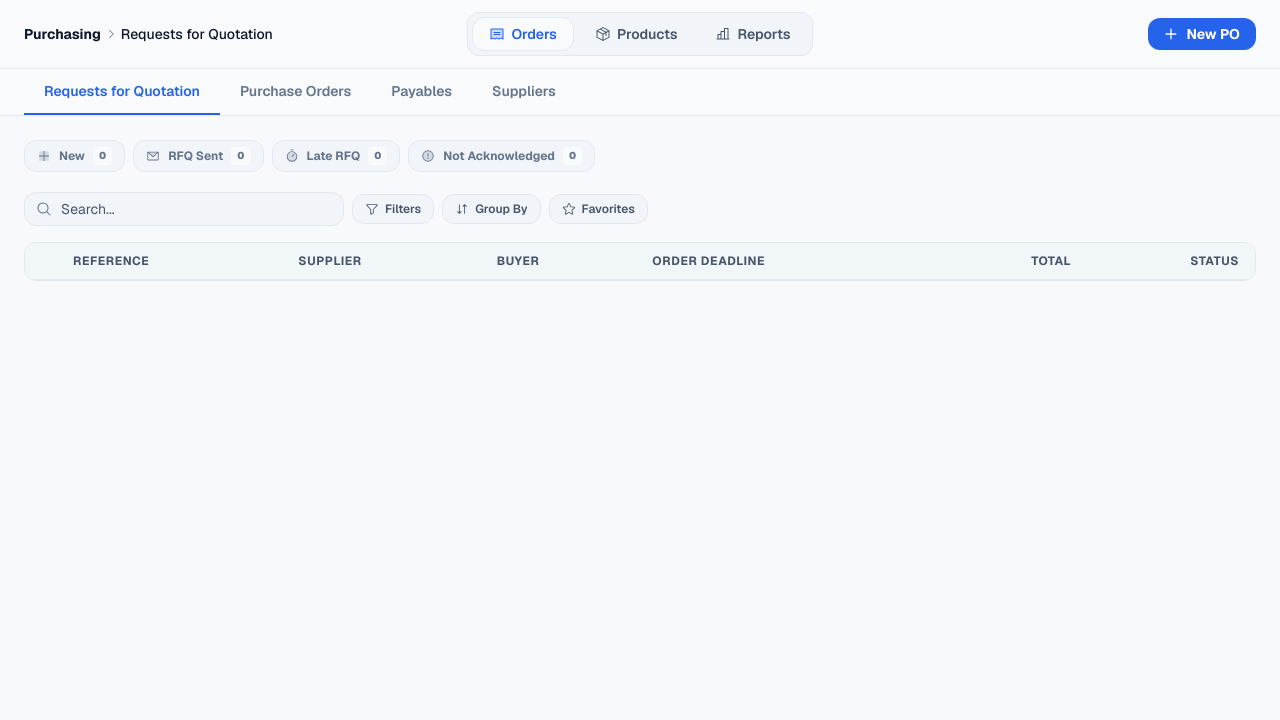
Test: Purchasing product fitment and description › shows the part's existing fitment rows on the Fitment tab
Click the button "Products" at x=636, y=34, box [578,17,694,51]
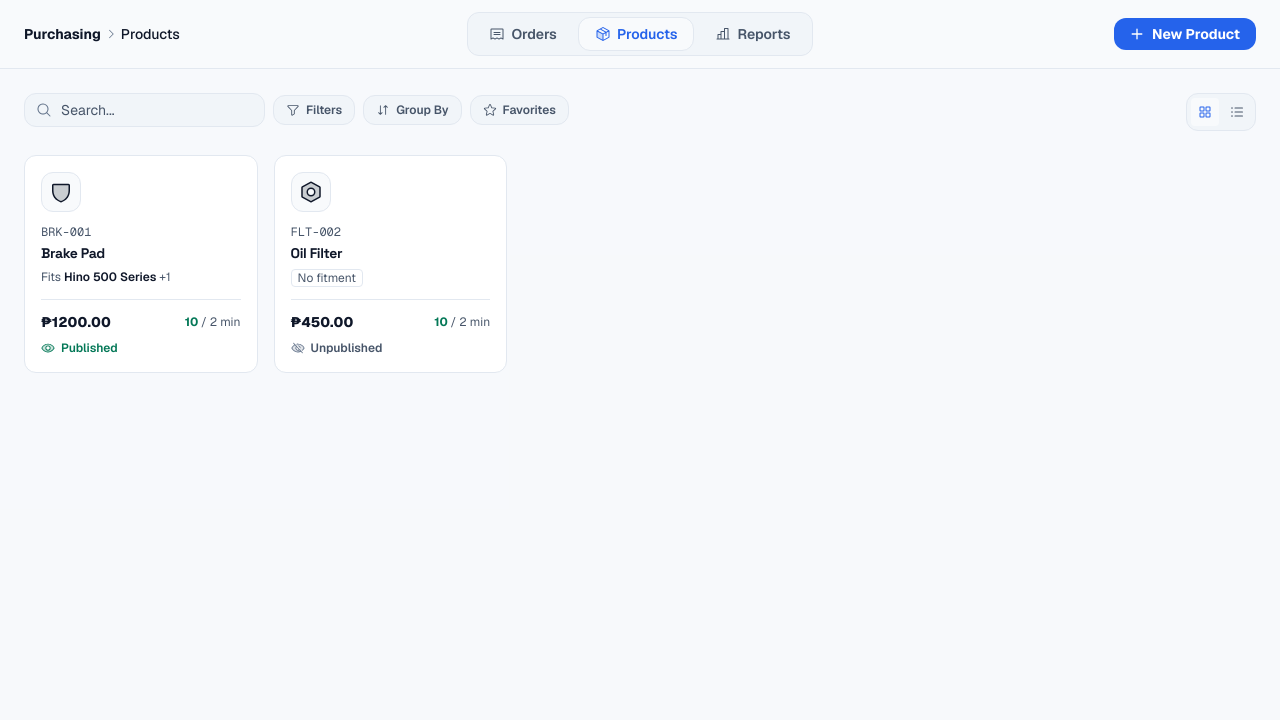
Press Enter in the button "Brake Pad", box [24,155,258,373]
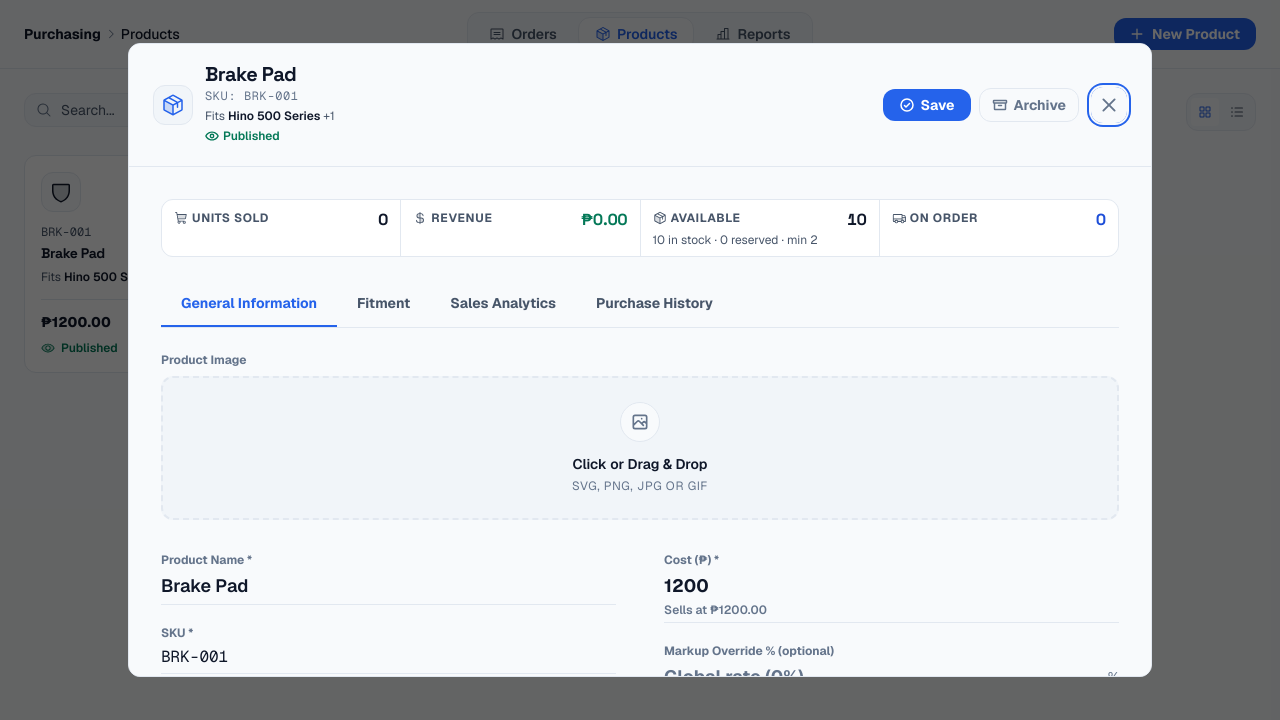
Click the tab "Fitment" at x=384, y=304, box [337,281,430,327]
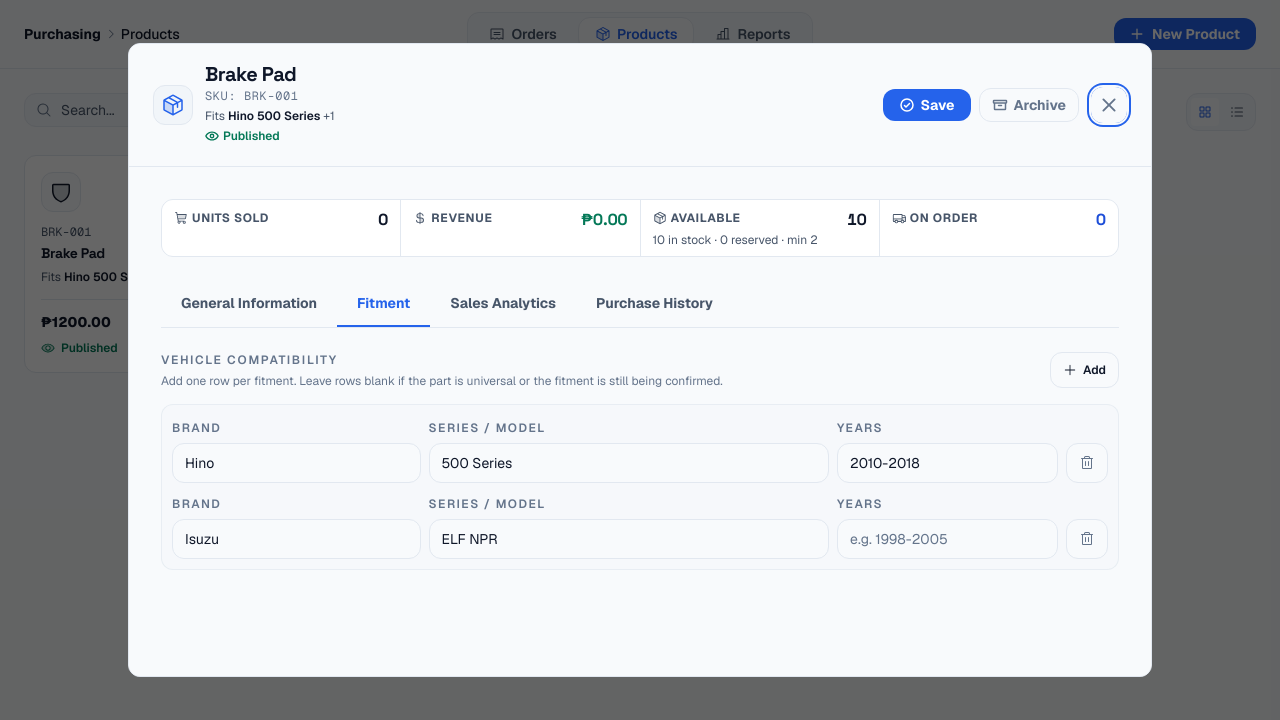
Check: the 1st field labelled "Years" holds "2010-2018", box [837,443,1058,483]
